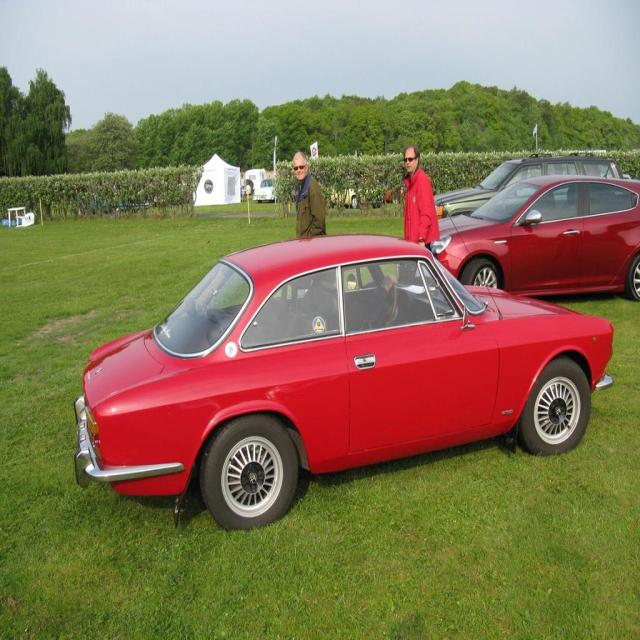car: (77, 198, 611, 534)
